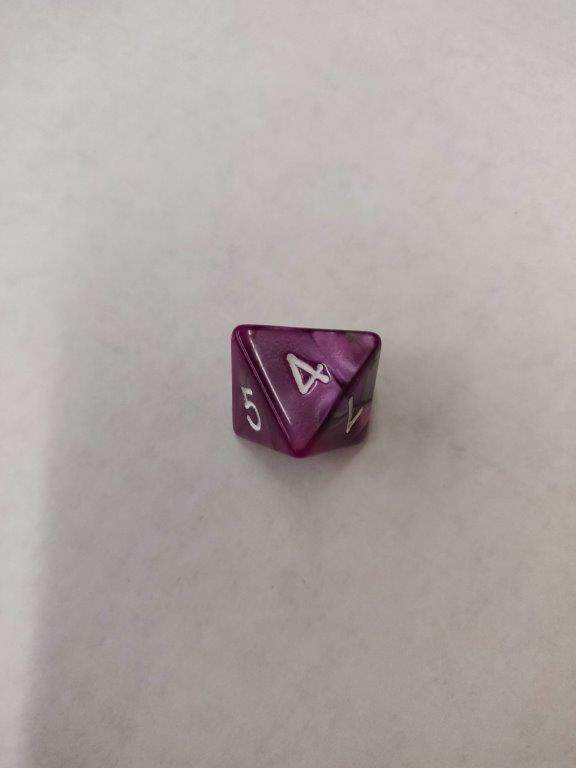d8-4: (229, 322, 381, 452)
